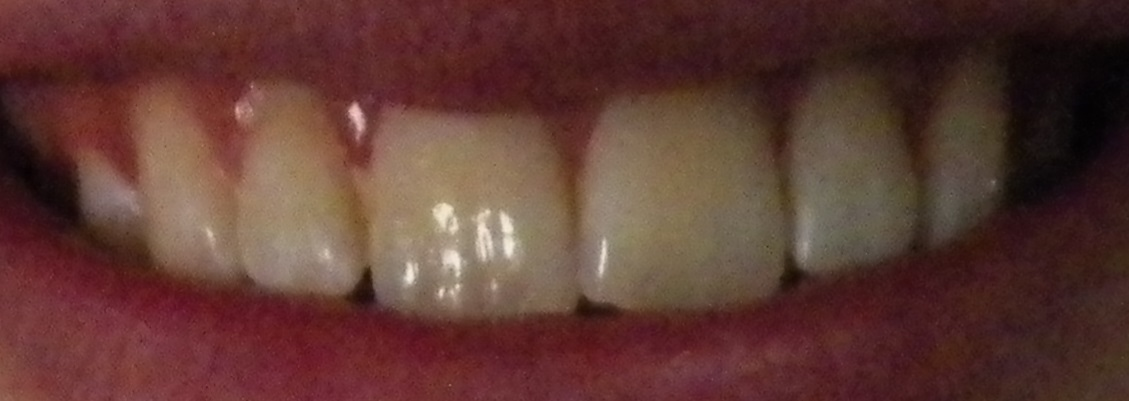boca: (23, 66, 1040, 321)
